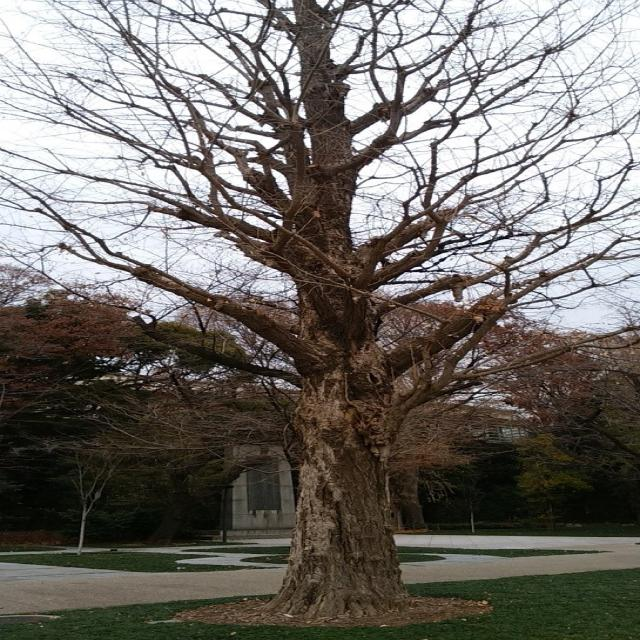ginkgo: (0, 0, 640, 626)
